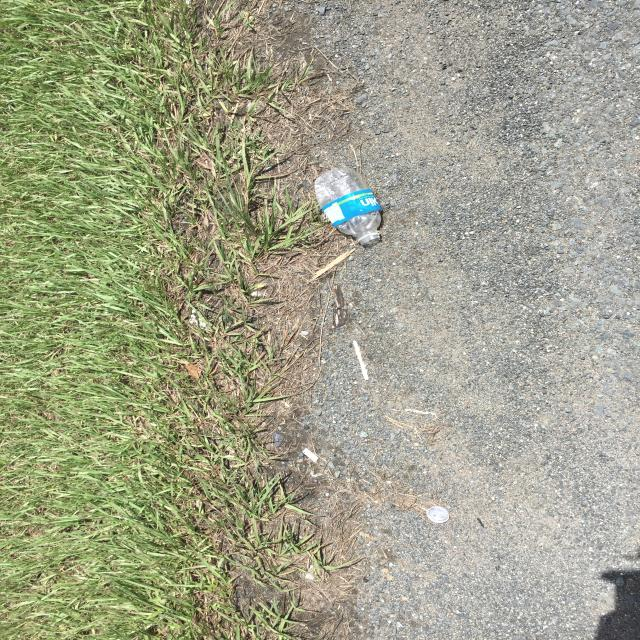Clear plastic bottle: (315, 167, 382, 246)
Plastic bottle cap: (427, 506, 449, 523)
Unlabeled litter: (352, 340, 368, 381), (303, 447, 318, 463)
